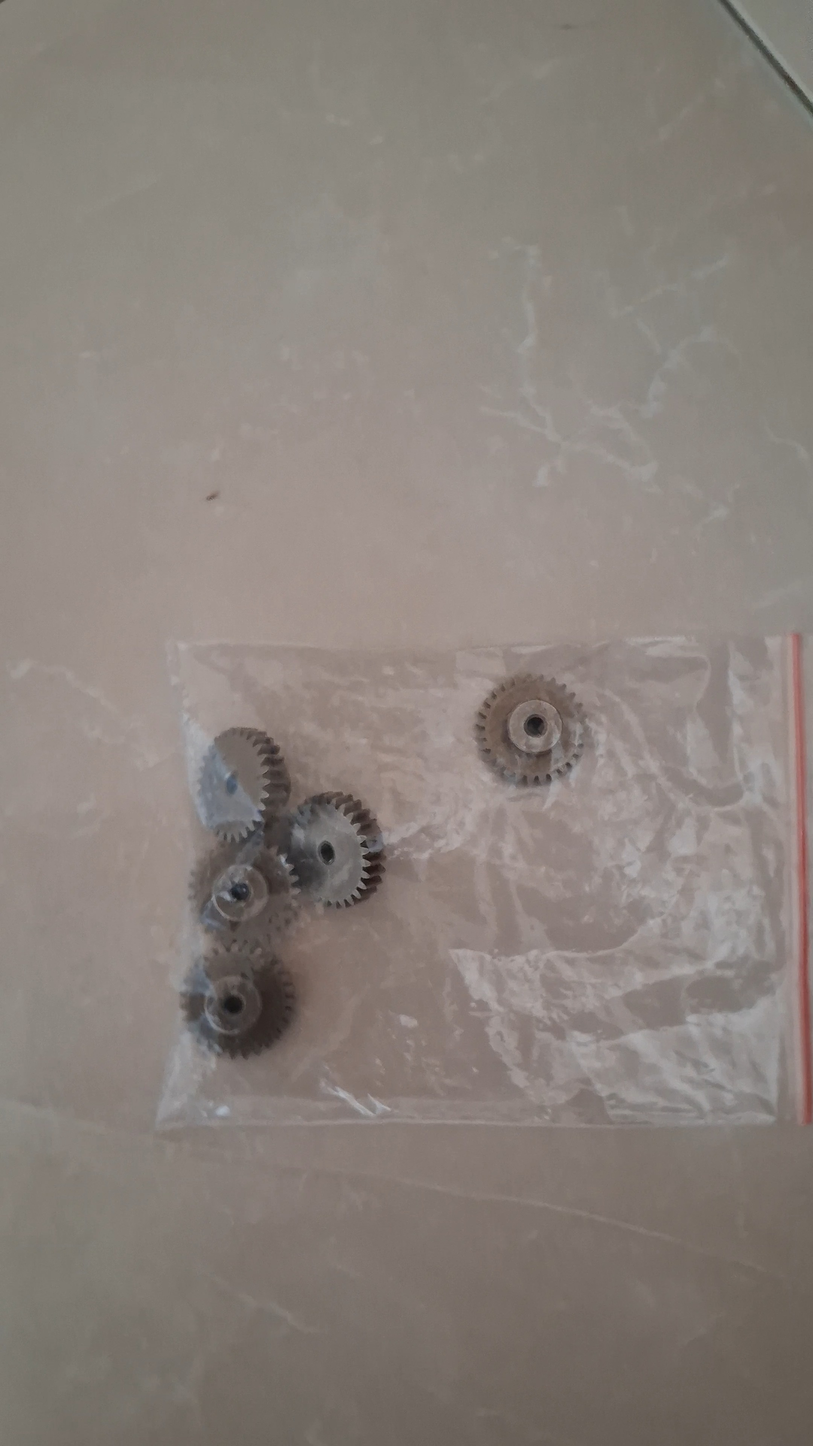spur gear: (181, 944, 295, 1057), (189, 833, 298, 945), (475, 675, 584, 784), (285, 792, 384, 907), (198, 727, 290, 841)
